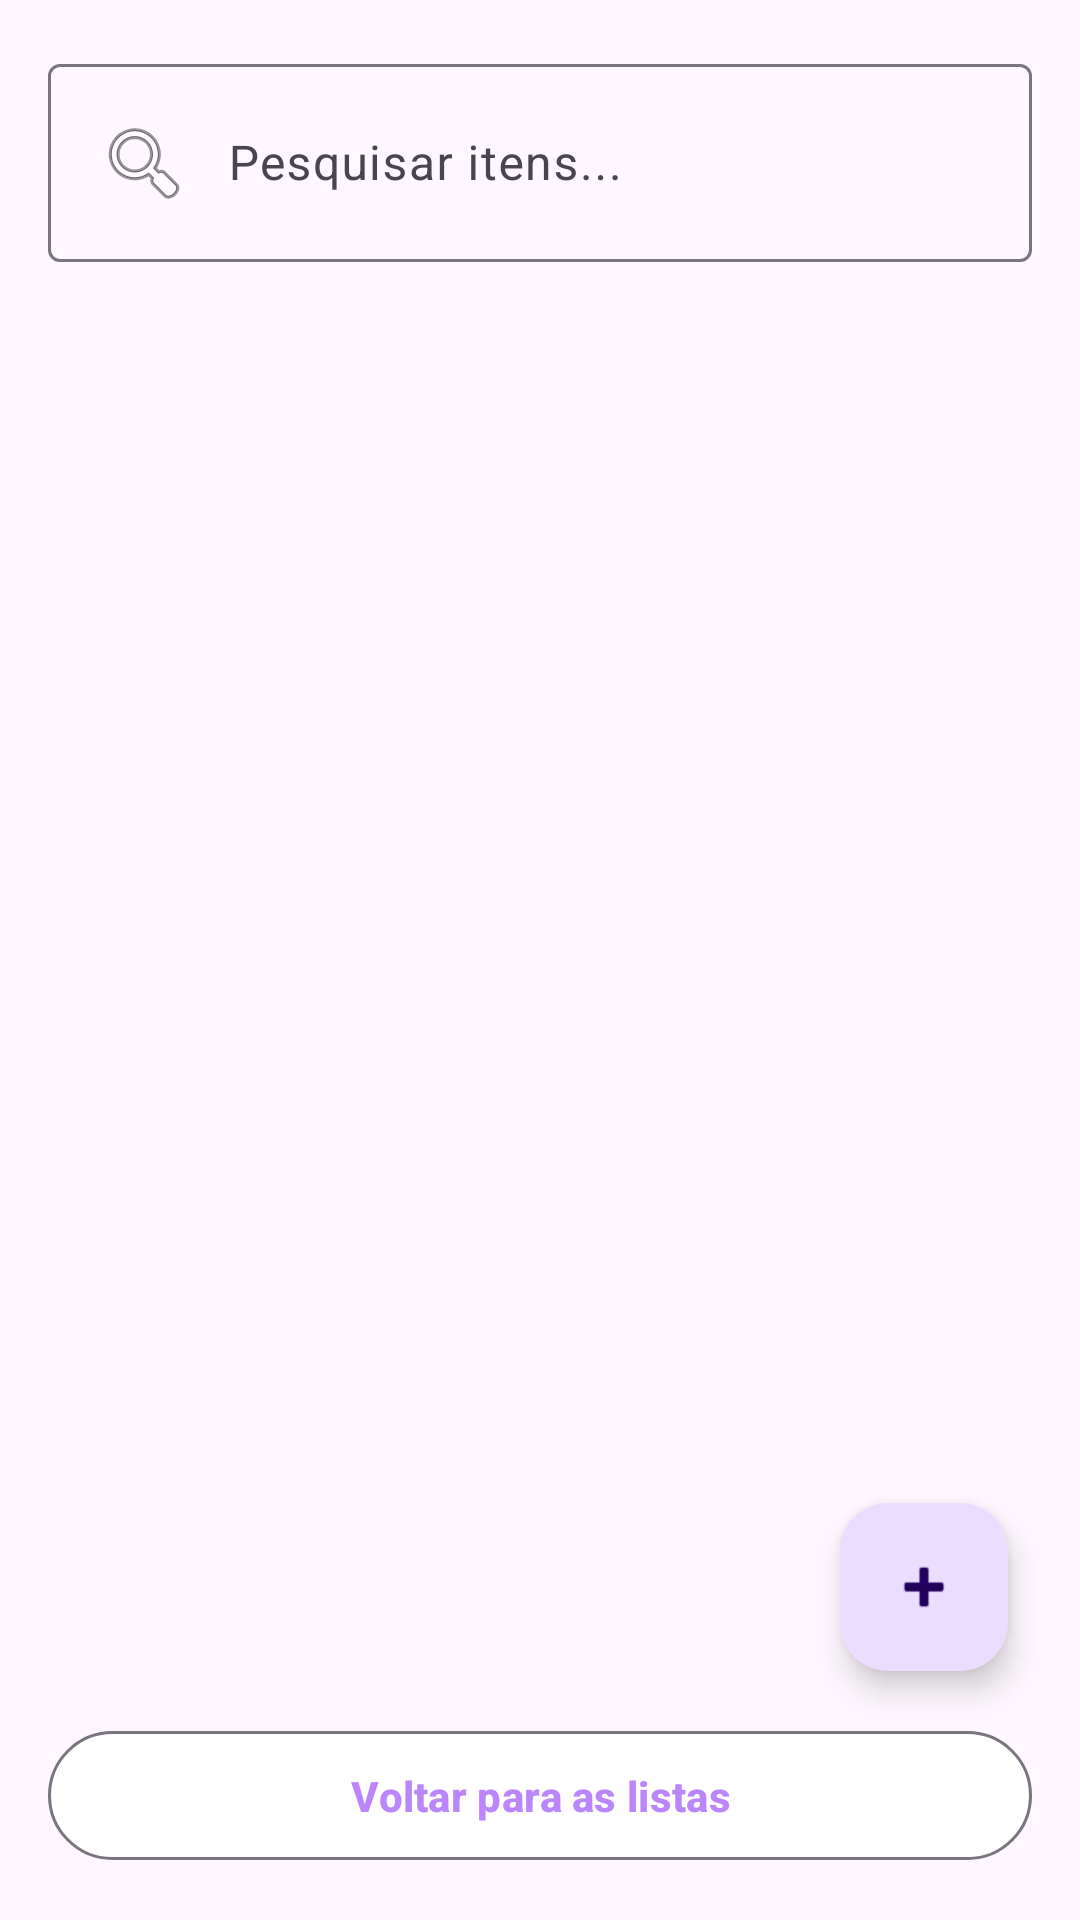

Locate icon controls on the screen. Image size 1080*1920, boxes as (x1, y1, x2, y2).
Adicionar item: (840, 1503, 1008, 1671)
